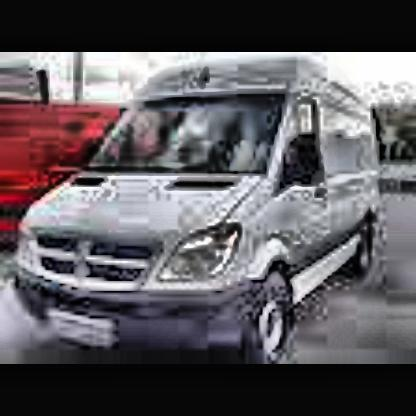Dodge Sprinter Cargo Van 2009: (16, 61, 394, 358)
